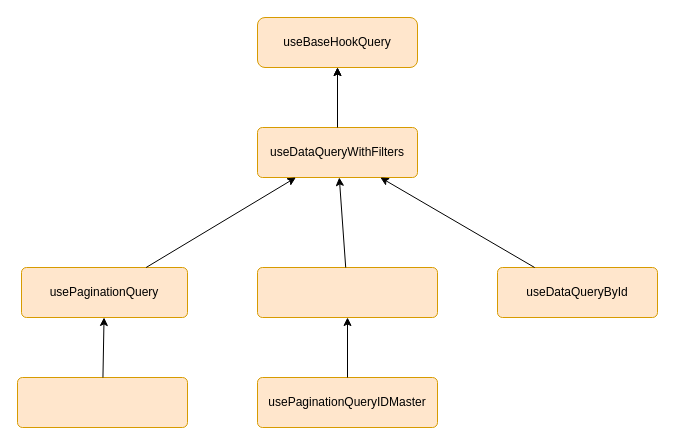
Some shapes in this 675 by 445 pixel diagram are drawn without their labels. The centre of each missing label's shape, as x and y in pixels:
"usePaginationQueryID" goes at point (102, 402).
"usePaginationQueryMaster" goes at point (347, 292).
